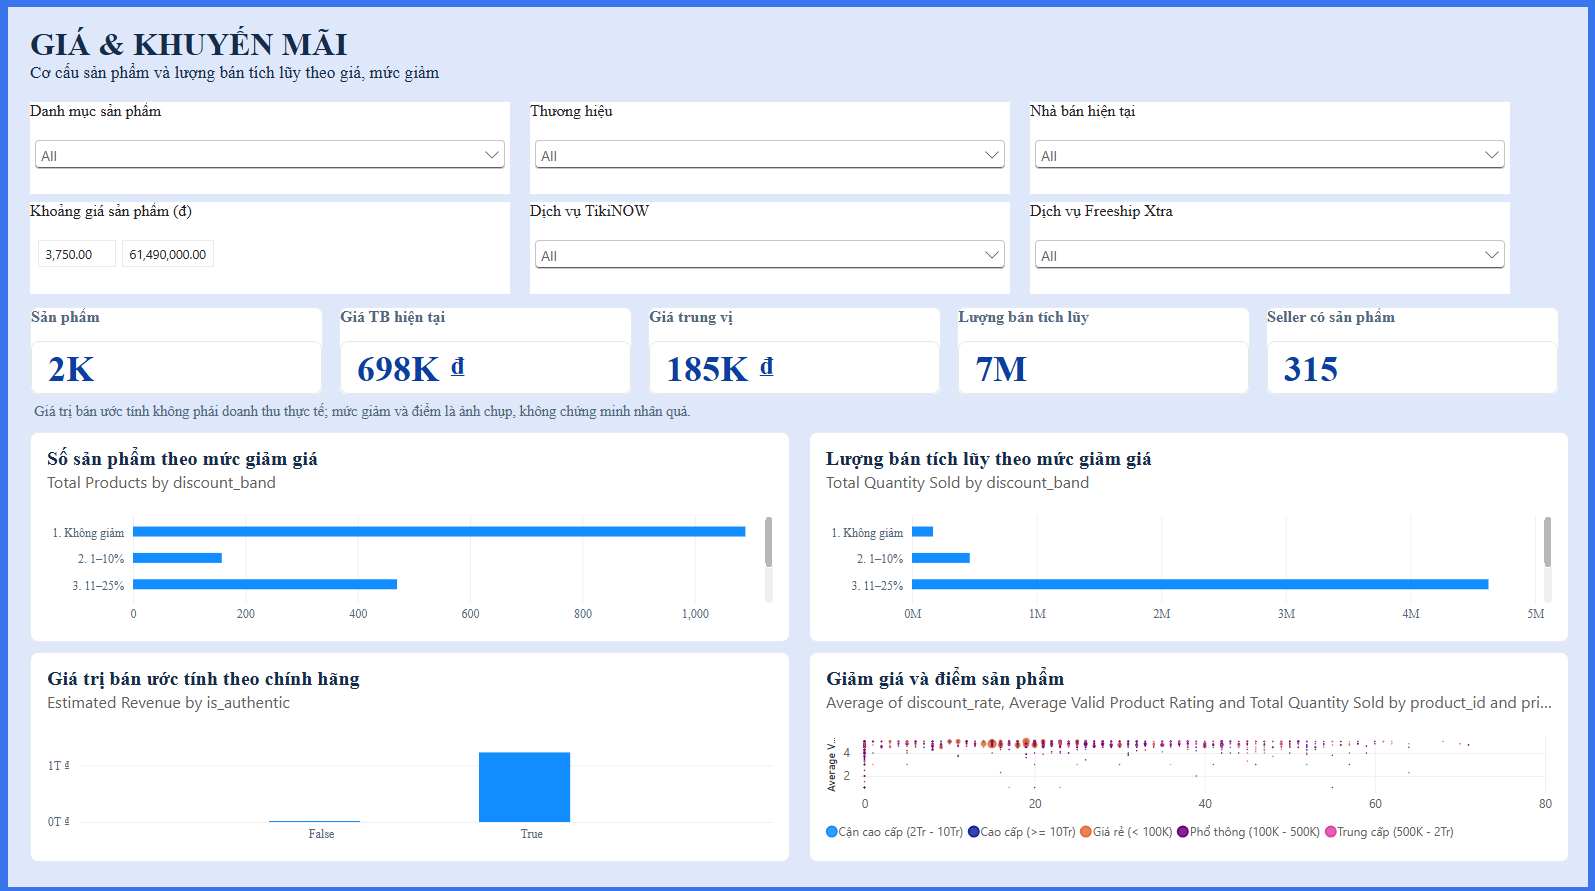

What the dashboard file says about the page in this screenshot:
{"tool":"powerbi","page":{"name":"Giá & khuyến mãi","canvas":[1600,900],"ordinal":2},"visuals":[{"type":"shape","box":[2,2,1596,896],"z":0},{"type":"cardVisual","title":"Sản phẩm","fields":{"Data":["KPI_Measures.Total Products"]},"box":[32,310,292.6,88],"z":1000},{"type":"cardVisual","title":"Giá TB hiện tại","fields":{"Data":["KPI_Measures.Average Product Price"]},"box":[341,310,292.6,88],"z":2000},{"type":"cardVisual","title":"Giá trung vị","fields":{"Data":["KPI_Measures.Median Product Price"]},"box":[650,310,292.6,88],"z":3000},{"type":"cardVisual","title":"Lượng bán tích lũy","fields":{"Data":["KPI_Measures.Total Quantity Sold"]},"box":[959.1,310,292.6,88],"z":4000},{"type":"cardVisual","title":"Seller có sản phẩm","fields":{"Data":["KPI_Measures.Sellers with Products"]},"box":[1268.1,310,292.6,88],"z":5000},{"type":"clusteredBarChart","title":"Số sản phẩm theo mức giảm giá","fields":{"Category":["Dim_Product.discount_band"],"Y":["KPI_Measures.Total Products"]},"box":[32,435,760.2,210],"z":10000},{"type":"clusteredBarChart","title":"Lượng bán tích lũy theo mức giảm giá","fields":{"Category":["Dim_Product.discount_band"],"Y":["KPI_Measures.Total Quantity Sold"]},"box":[811,435,760.2,210],"z":11000},{"type":"columnChart","title":"Giá trị bán ước tính theo chính hãng","fields":{"Category":["Dim_Product.is_authentic"],"Y":["KPI_Measures.Estimated Revenue"]},"box":[32,655,760.2,210],"z":12000},{"type":"scatterChart","title":"Giảm giá và điểm sản phẩm","fields":{"Category":["Dim_Product.product_id"],"Series":["Dim_Product.price_segment"],"Size":["KPI_Measures.Total Quantity Sold"],"X":["Average(Dim_Product.discount_rate)"],"Y":["KPI_Measures.Average Valid Product Rating"]},"box":[811,655,760.2,210],"z":13000},{"type":"textbox","box":[32,29,1509.9,84],"z":99000},{"type":"textbox","box":[35.5,404,1515.8,26],"z":100000},{"type":"slicer","title":"Danh mục sản phẩm","fields":{"Values":["Dim_Category.category_name"]},"box":[32,105,480,92],"z":200000},{"type":"slicer","title":"Thương hiệu","fields":{"Values":["Dim_Product.brand_name"]},"box":[532,105,480,92],"z":200001},{"type":"slicer","title":"Nhà bán hiện tại","fields":{"Values":["Dim_Seller.seller_name"]},"box":[1032,105,480,92],"z":200002},{"type":"slicer","title":"Khoảng giá sản phẩm (đ)","fields":{"Values":["Dim_Product.price"]},"box":[32,205,480,92],"z":200100},{"type":"slicer","title":"Dịch vụ TikiNOW","fields":{"Values":["Dim_Product.tiki_filter"]},"box":[532,205,480,92],"z":200101},{"type":"slicer","title":"Dịch vụ Freeship Xtra","fields":{"Values":["Dim_Product.freeship_filter"]},"box":[1032,205,480,92],"z":200102}]}

Visuals, with their boxes in screenshot pixels (x1, y1, x2, y2), scaled from the page's 1600x900 canvas onto the 1595x891 screenshot:
shape: bbox=(2, 2, 1593, 889)
"Sản phẩm" cardVisual: bbox=(32, 307, 324, 394)
"Giá TB hiện tại" cardVisual: bbox=(340, 307, 632, 394)
"Giá trung vị" cardVisual: bbox=(648, 307, 940, 394)
"Lượng bán tích lũy" cardVisual: bbox=(956, 307, 1248, 394)
"Seller có sản phẩm" cardVisual: bbox=(1264, 307, 1556, 394)
"Số sản phẩm theo mức giảm giá" clusteredBarChart: bbox=(32, 431, 790, 639)
"Lượng bán tích lũy theo mức giảm giá" clusteredBarChart: bbox=(808, 431, 1566, 639)
"Giá trị bán ước tính theo chính hãng" columnChart: bbox=(32, 648, 790, 856)
"Giảm giá và điểm sản phẩm" scatterChart: bbox=(808, 648, 1566, 856)
textbox: bbox=(32, 29, 1537, 112)
textbox: bbox=(35, 400, 1546, 426)
"Danh mục sản phẩm" slicer: bbox=(32, 104, 510, 195)
"Thương hiệu" slicer: bbox=(530, 104, 1009, 195)
"Nhà bán hiện tại" slicer: bbox=(1029, 104, 1507, 195)
"Khoảng giá sản phẩm (đ)" slicer: bbox=(32, 203, 510, 294)
"Dịch vụ TikiNOW" slicer: bbox=(530, 203, 1009, 294)
"Dịch vụ Freeship Xtra" slicer: bbox=(1029, 203, 1507, 294)
